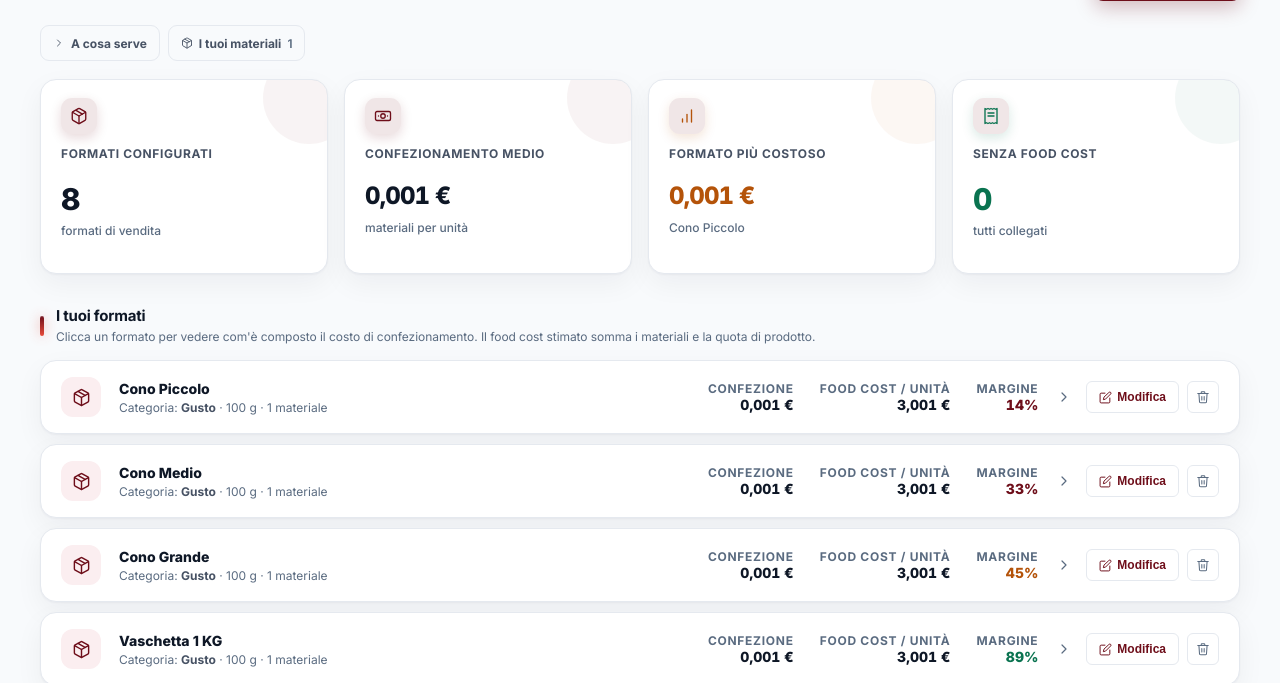
Scenario: «Modifica» apre il modulo dove l'hai premuto › il titolo dice quale formato stai modificando
Click the 2nd button "Modifica".
click(1133, 481)  # box [1086,465,1179,497]
(page scrolled)
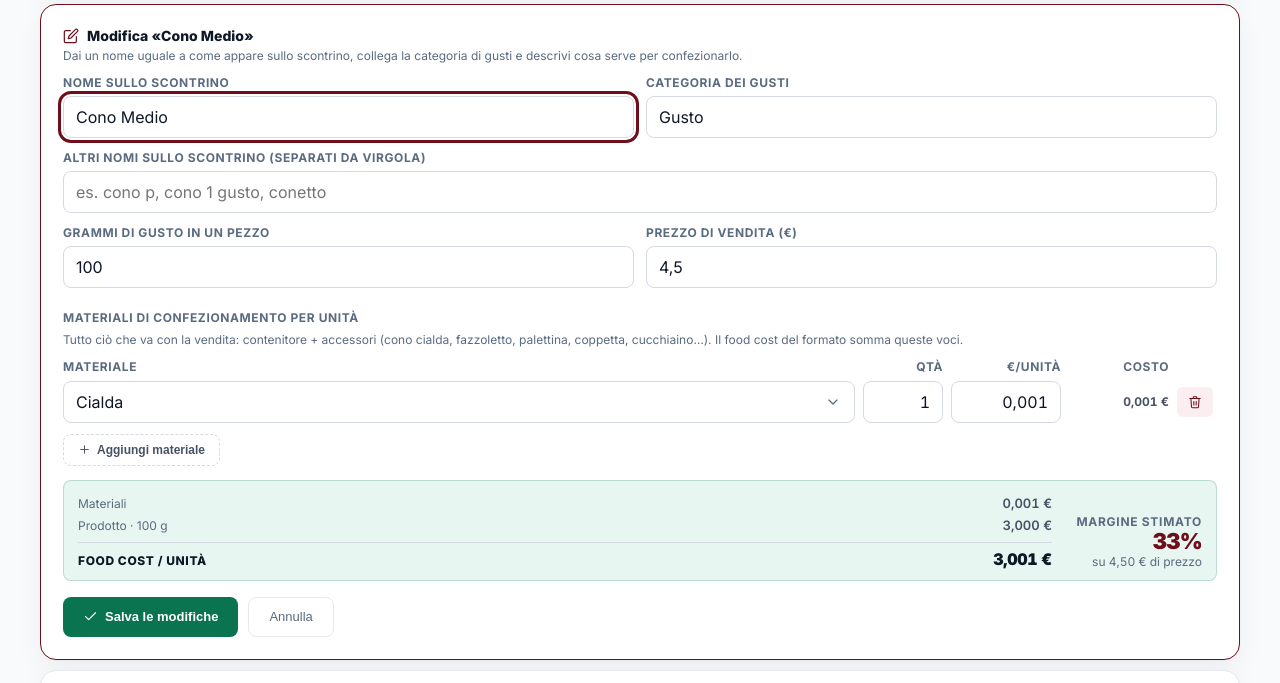
Expected: the element named "Modifica Cono Medio" shows "Modifica «Cono Medio»", [87,27,254,44]
